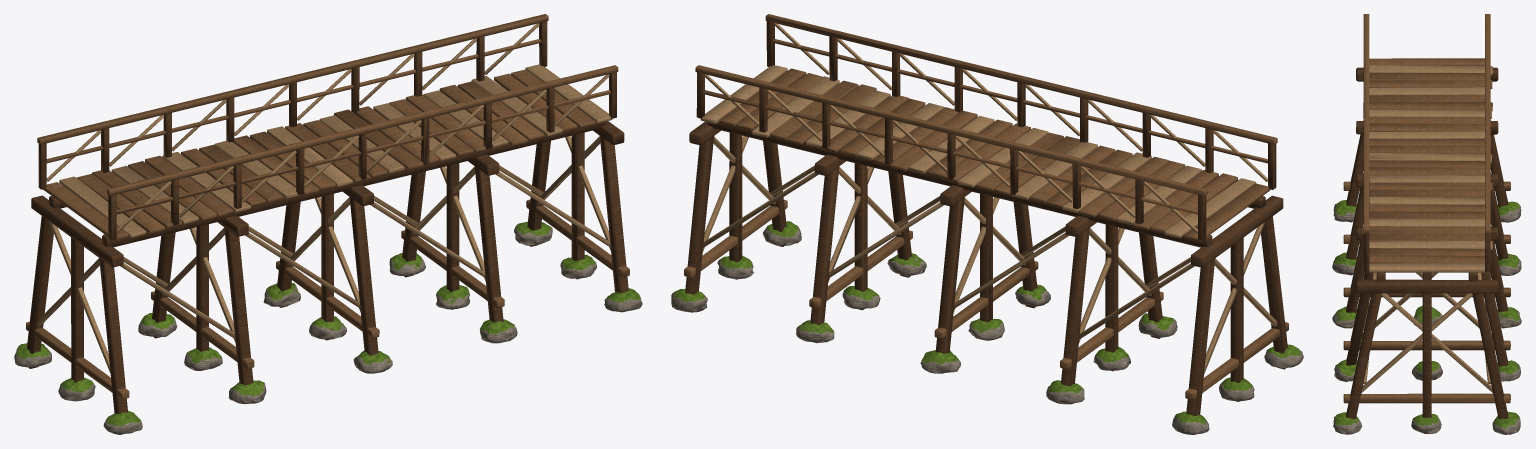
File: trestle_bridge_12m.glb
The picture shows the model from 3 angles, left to right: view 1: azimuth 30°, elevation 25°; view 2: azimuth 150°, elevation 25°; view 3: azimuth 270°, elevation 25°; orthographic projection. The views are drawn at different scales.
Parts seen in each view (by area): view 1: trestle_bridge_12m_Wood_Dark, trestle_bridge_12m_Wood_Plank, trestle_bridge_12m_Wood_Light, trestle_bridge_12m_Rock, trestle_bridge_12m_Rock_Moss; view 2: trestle_bridge_12m_Wood_Dark, trestle_bridge_12m_Wood_Plank, trestle_bridge_12m_Wood_Light, trestle_bridge_12m_Rock, trestle_bridge_12m_Rock_Moss; view 3: trestle_bridge_12m_Wood_Plank, trestle_bridge_12m_Wood_Dark, trestle_bridge_12m_Wood_Light, trestle_bridge_12m_Rock, trestle_bridge_12m_Rock_Moss.
Boxes of the visible parts, x1,y1,x2,y2 form: trestle_bridge_12m_Wood_Dark: (27, 21, 628, 413); trestle_bridge_12m_Wood_Plank: (26, 14, 629, 399); trestle_bridge_12m_Wood_Light: (37, 23, 612, 373); trestle_bridge_12m_Rock: (14, 226, 642, 434); trestle_bridge_12m_Rock_Moss: (16, 221, 640, 426); trestle_bridge_12m_Wood_Dark: (685, 20, 1287, 415); trestle_bridge_12m_Wood_Plank: (684, 14, 1288, 399); trestle_bridge_12m_Wood_Light: (700, 23, 1277, 373); trestle_bridge_12m_Rock: (671, 227, 1303, 434); trestle_bridge_12m_Rock_Moss: (673, 221, 1301, 424); trestle_bridge_12m_Wood_Plank: (1343, 14, 1510, 403); trestle_bridge_12m_Wood_Dark: (1346, 67, 1508, 434); trestle_bridge_12m_Wood_Light: (1361, 65, 1492, 392); trestle_bridge_12m_Rock: (1332, 204, 1521, 434); trestle_bridge_12m_Rock_Moss: (1333, 200, 1519, 428).
Bounding box in the file's own units: 12.9 × 5.42 × 4.53.
5 materials, 5 textured.
